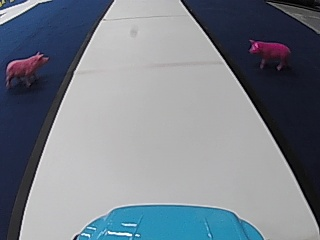pig: (3, 49, 48, 89), (245, 36, 291, 70)
